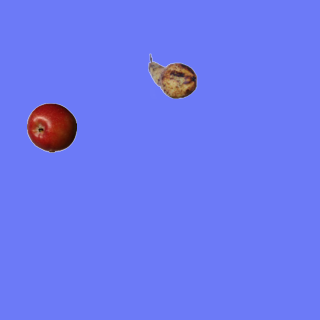Apple Braeburn: (26, 102, 76, 152)
Pear Abate: (147, 51, 197, 101)
